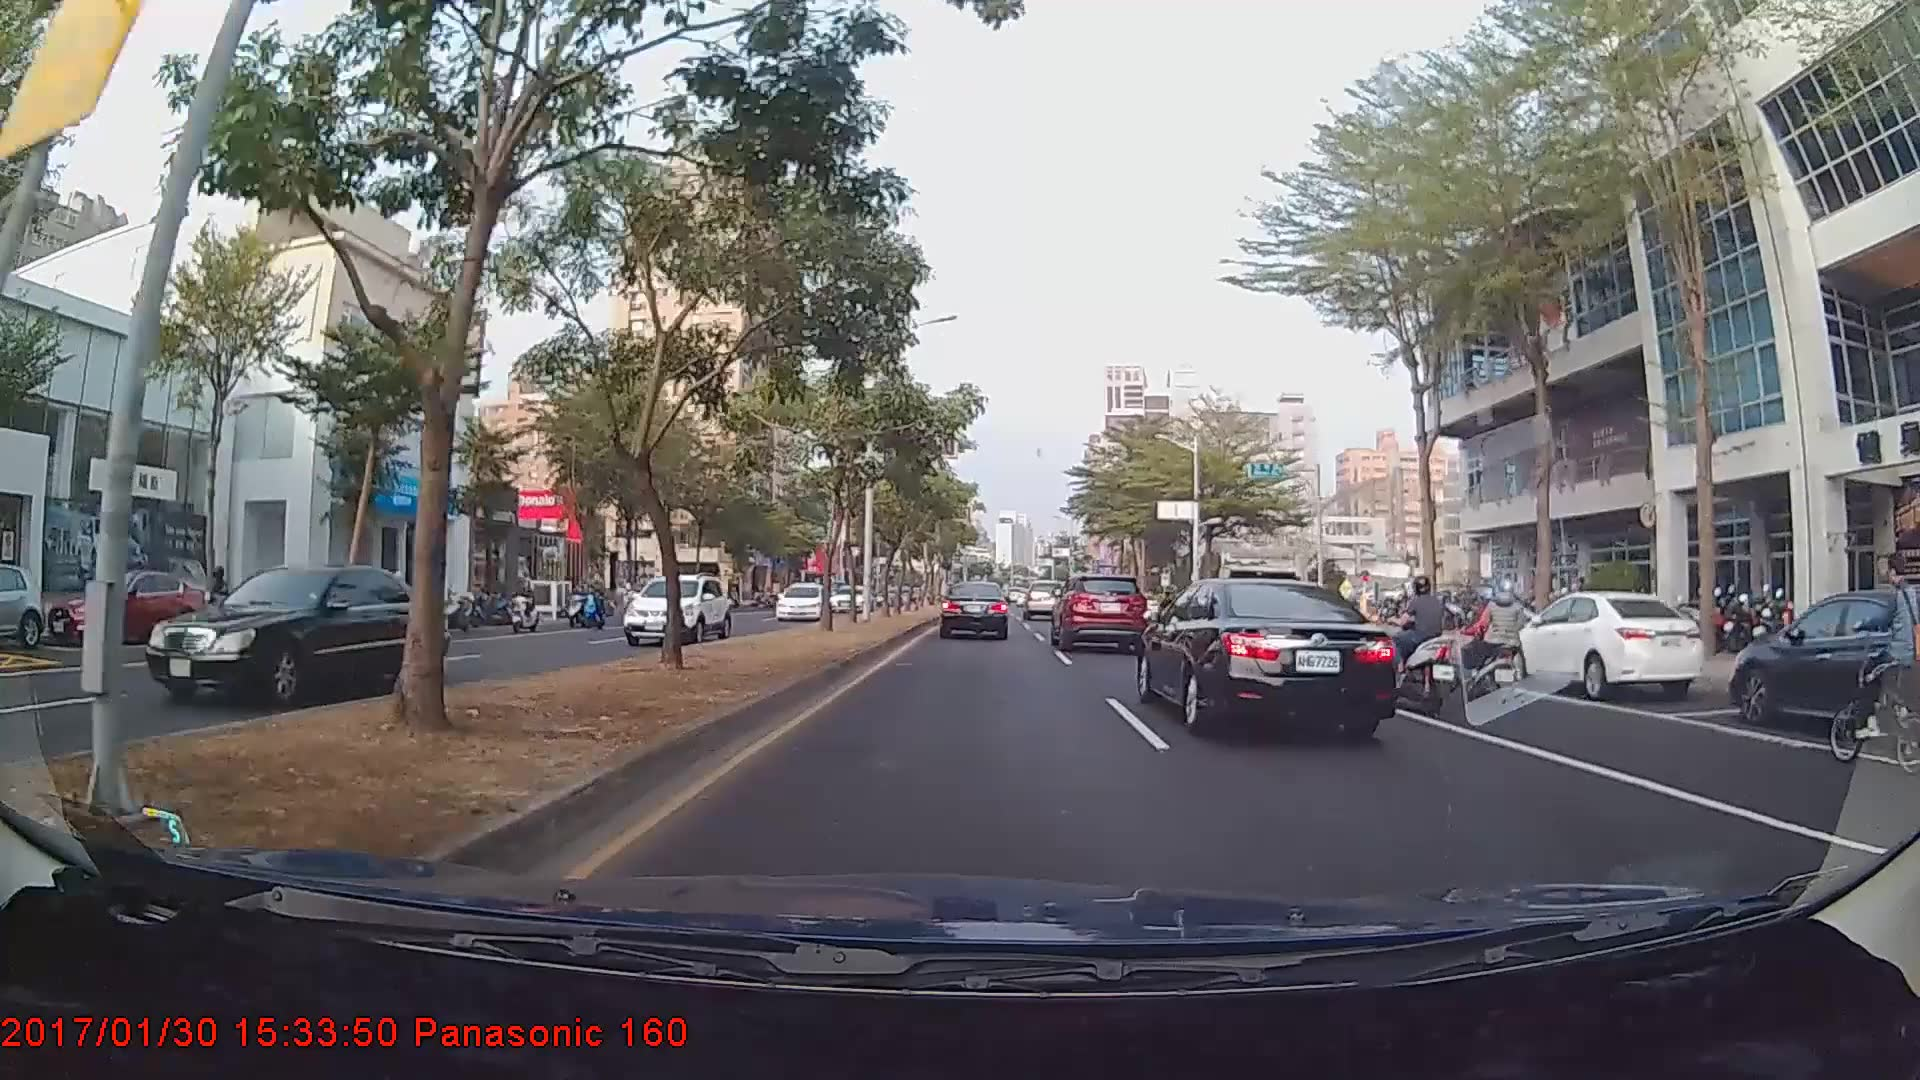rider: (1822, 559, 1920, 773), (1386, 572, 1473, 722), (1455, 578, 1530, 705), (189, 563, 243, 642)
vehicle: (1139, 568, 1392, 740), (146, 564, 456, 703), (1726, 587, 1920, 735), (1523, 585, 1704, 698), (43, 570, 205, 646), (621, 572, 734, 647), (1054, 571, 1147, 653), (939, 579, 1010, 640), (1, 558, 48, 646), (775, 580, 827, 623), (1024, 580, 1056, 619)
